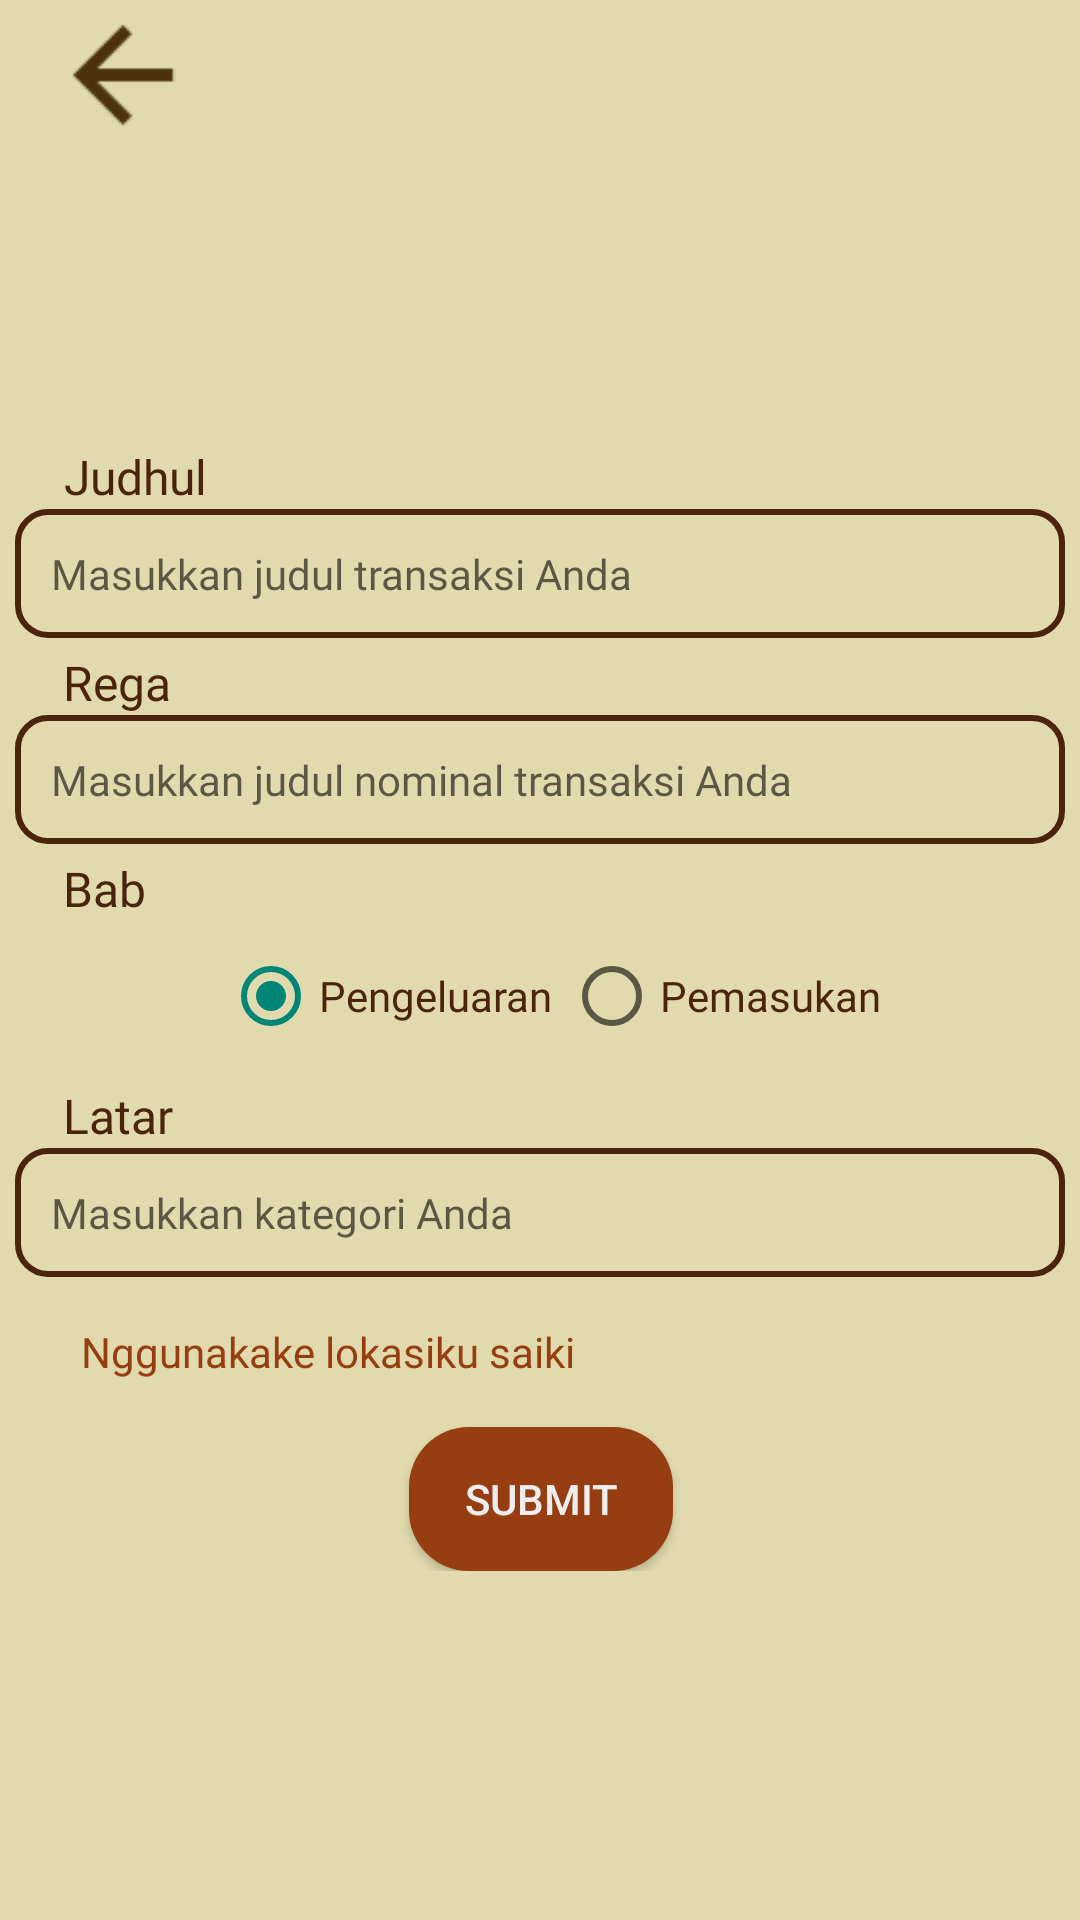

Named icons in this screenshot (1080×1920) and their bounding boxes, [x1=x1, y1=y1, x2=x2, y2=y2]:
arrow back: [x1=73, y1=25, x2=174, y2=125]
